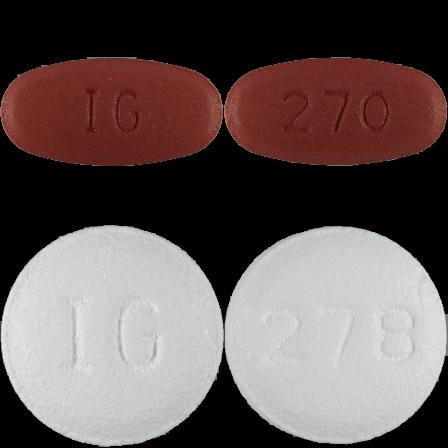31722-270: (0, 0, 224, 224)
